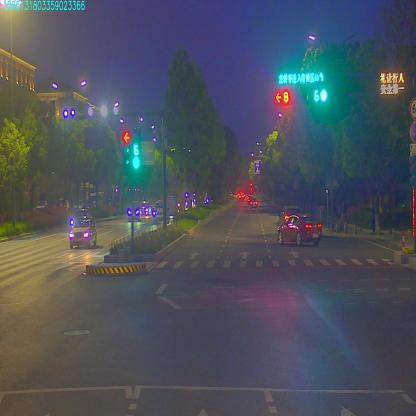traffic-light: (277, 71, 327, 85), (312, 84, 329, 104), (274, 90, 291, 106)
